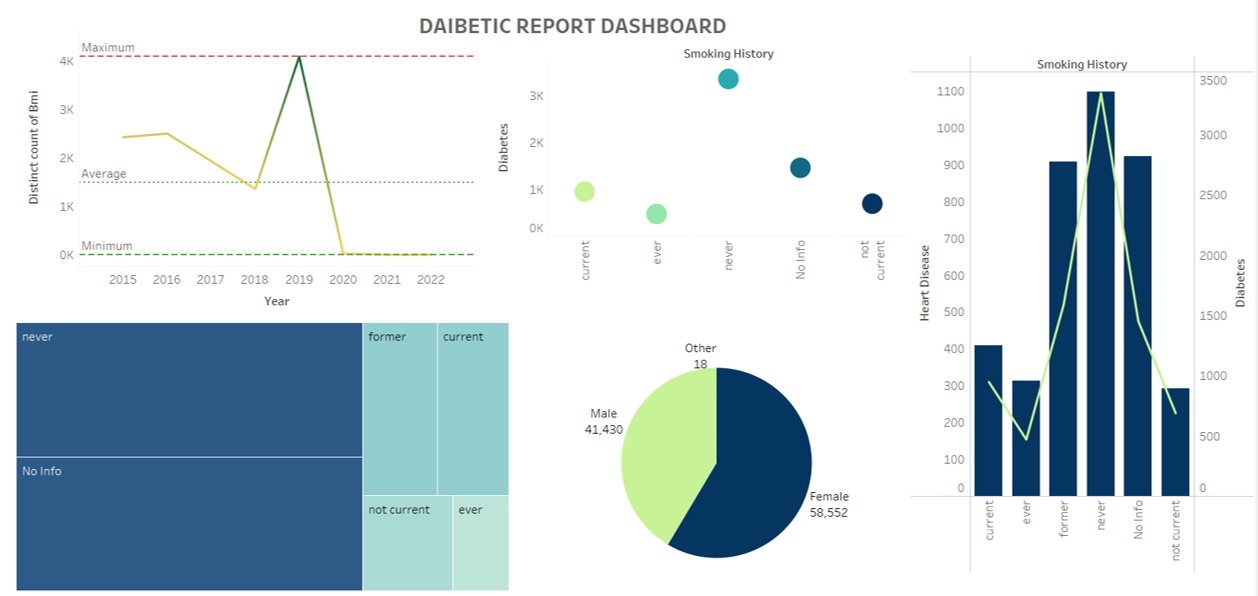

What the dashboard file says about the page in this screenshot:
{"tool":"tableau","page":{"name":"DIABETIC REPORT DASHBOARD","canvas":[1000,1000],"units":"permille","ordinal":0},"visuals":[{"type":"text","box":[334.8,15.4,253.5,65.3]},{"type":"worksheet","title":" LINE CHART","mark":"Automatic","rows":["bmi"],"cols":["year"],"box":[20.2,57.6,361,472.5]},{"type":"worksheet","title":"SMOKING HISTORY","mark":"Pie","rows":["diabetes"],"cols":["smoking_history"],"box":[392.8,82,332.9,423.8]},{"type":"worksheet","title":"BAR","mark":"Bar","rows":["heart_disease","diabetes"],"cols":["smoking_history"],"box":[726.9,99.9,272.4,861.7]},{"type":"worksheet","title":"HEAT MAP","mark":"Automatic","box":[14.7,537.8,395.9,457.1]},{"type":"worksheet","title":"PIE CHART","mark":"Pie","box":[430.1,569.8,285.9,414.9]}]}

Visuals, with their boxes on the dashboard's canvas, which has no fixed pixel size, in thousandths of its width and height (x1, y1, x2, y2). These are canvas units, not pixel positions in the 1258x596 screenshot, which may show the page scaled, cropped or inside an application window:
text: crop(335, 15, 588, 81)
" LINE CHART" worksheet: crop(20, 58, 381, 530)
"SMOKING HISTORY" worksheet (Pie marks): crop(393, 82, 726, 506)
"BAR" worksheet (Bar marks): crop(727, 100, 999, 962)
"HEAT MAP" worksheet: crop(15, 538, 411, 995)
"PIE CHART" worksheet (Pie marks): crop(430, 570, 716, 985)
